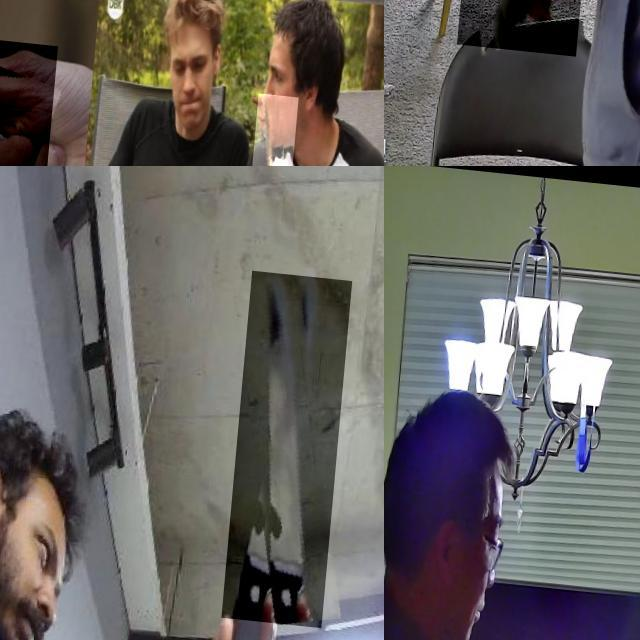-: (233, 264, 357, 618), (0, 21, 119, 166), (189, 0, 265, 129), (0, 0, 50, 104), (255, 82, 306, 166), (158, 0, 200, 75), (0, 0, 26, 91)
gun-knife-thesis - v11 Yolov5 augmented: (460, 0, 591, 89)
